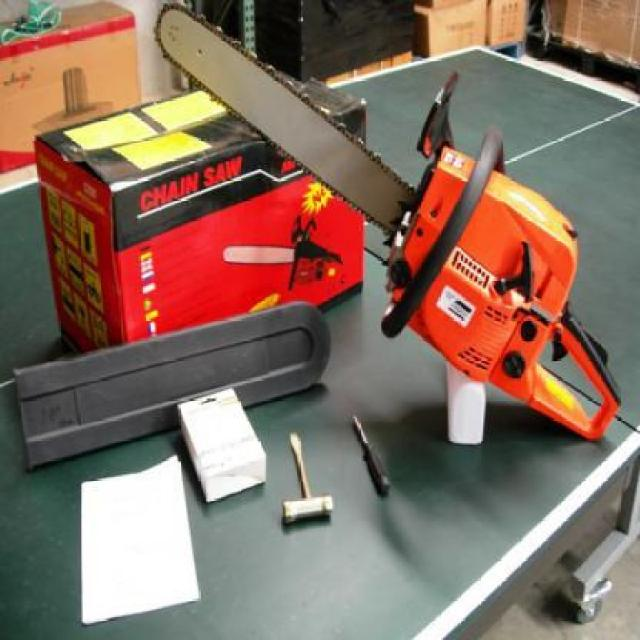Chainsaw: (154, 1, 623, 438)
